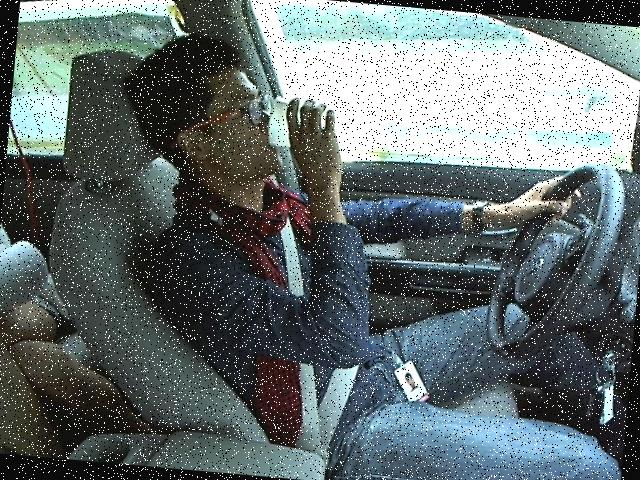c4 - Drinking: (89, 20, 639, 408)
